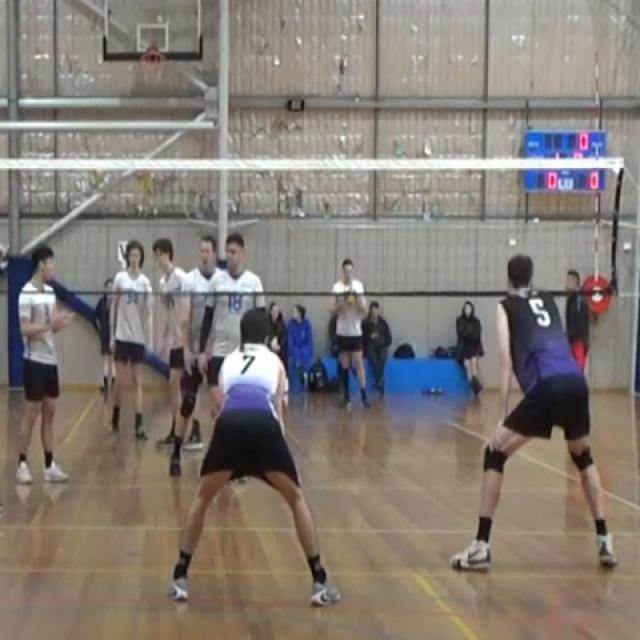volleyball: (340, 284, 360, 312)
